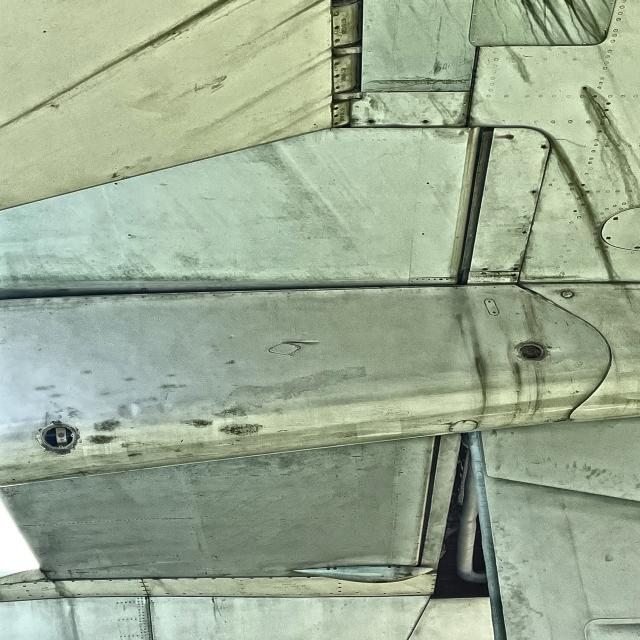crack: (280, 339, 323, 347)
